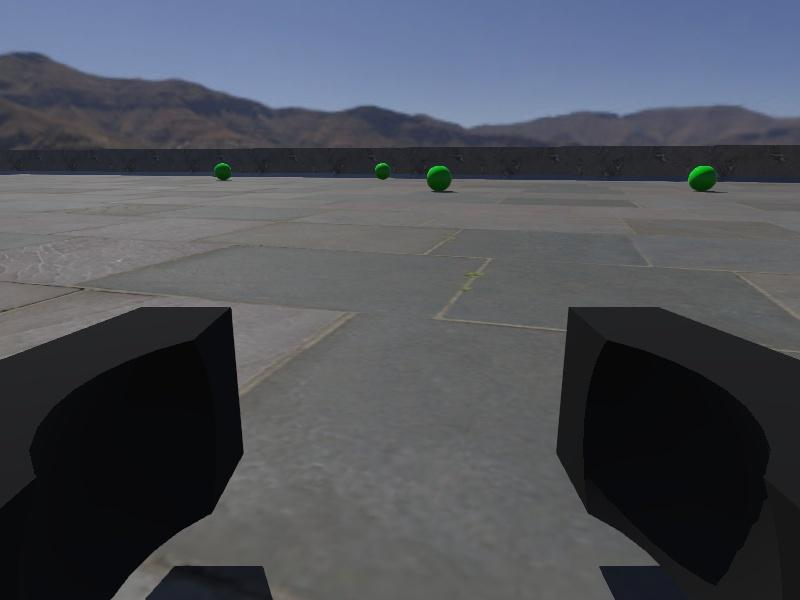green ball: (688, 164, 718, 192), (425, 165, 452, 193), (213, 163, 233, 181), (374, 162, 392, 180)
